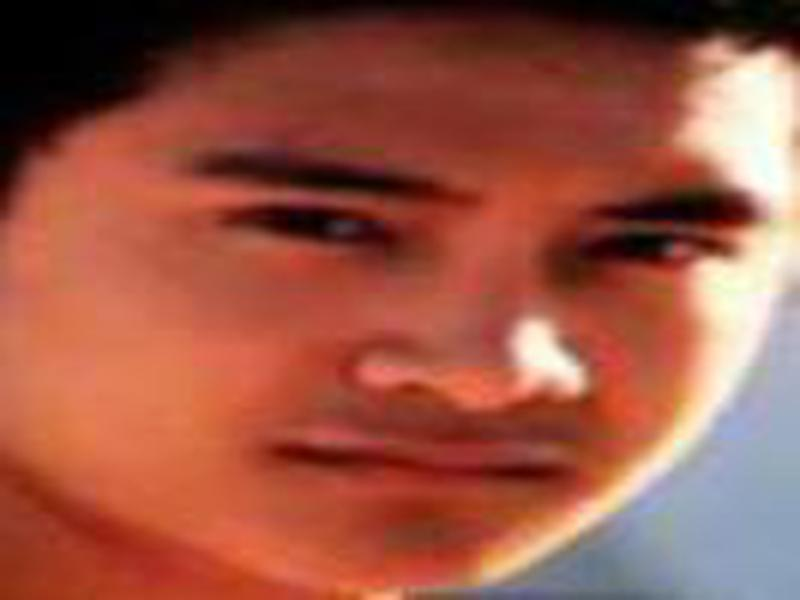without_mask: (2, 21, 795, 591)
